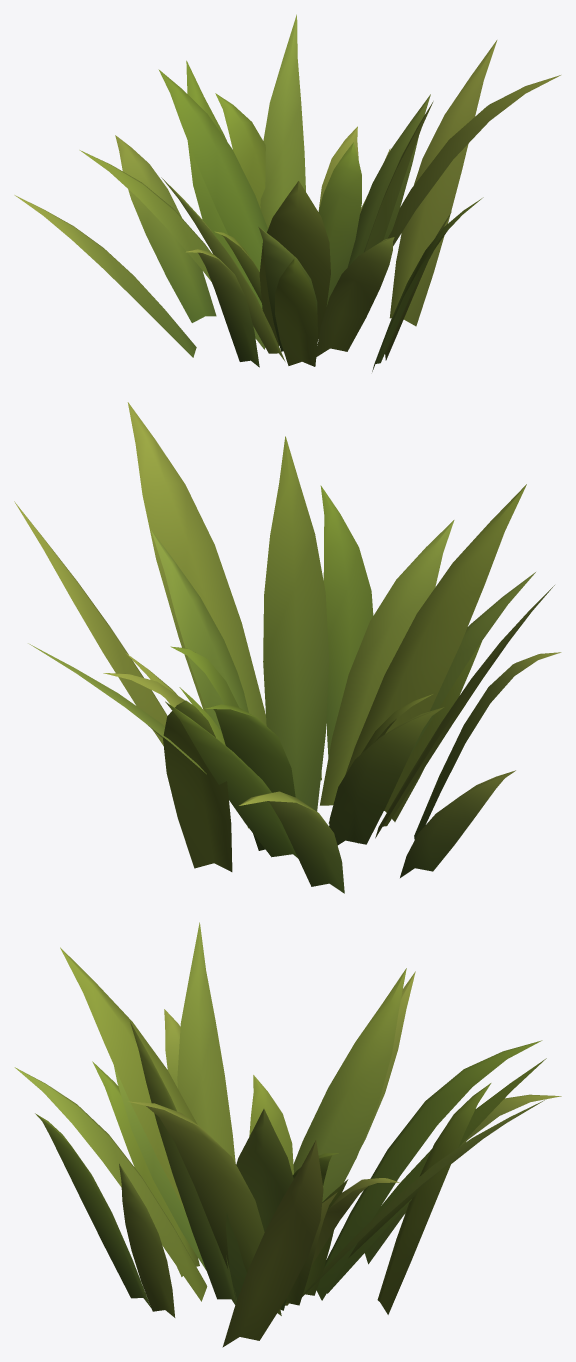
File: grass_patch.glb
The picture shows the model from 3 angles, top to bottom: view 1: azimuth 30°, elevation 25°; view 2: azimuth 150°, elevation 25°; view 3: azimuth 270°, elevation 25°; orthographic projection. The views are drawn at different scales.
Visible parts, largest first — view 1: Plant; view 2: Plant; view 3: Plant.
Boxes of the visible parts, x1,y1,x2,y2 form: Plant: [14, 14, 560, 371]; Plant: [14, 402, 561, 893]; Plant: [14, 922, 561, 1347].
Bounding box in the file's own units: 0.5993 × 0.3368 × 0.5296.
